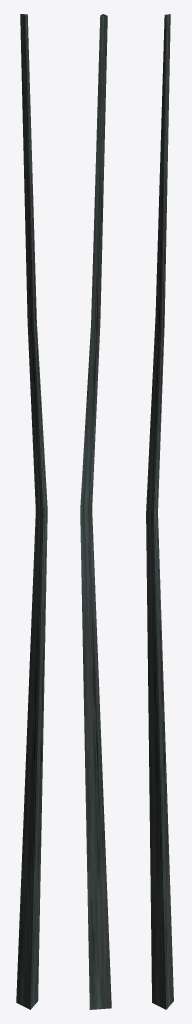
The model's file is swamp_stick.fbx.
The picture shows the model from 3 angles, left to right: view 1: azimuth 30°, elevation 25°; view 2: azimuth 210°, elevation 25°; view 3: azimuth 270°, elevation 25°; orthographic projection.
Parts seen in each view (by area): view 1: swamp_stick; view 2: swamp_stick; view 3: swamp_stick.
Boxes of the visible parts, bbox=[...] form: swamp_stick: bbox=[16, 14, 47, 1009]; swamp_stick: bbox=[80, 14, 111, 1009]; swamp_stick: bbox=[146, 14, 173, 1009].
Bounding box in the file's own units: 105 × 4651 × 119.
1 material, 1 textured.
